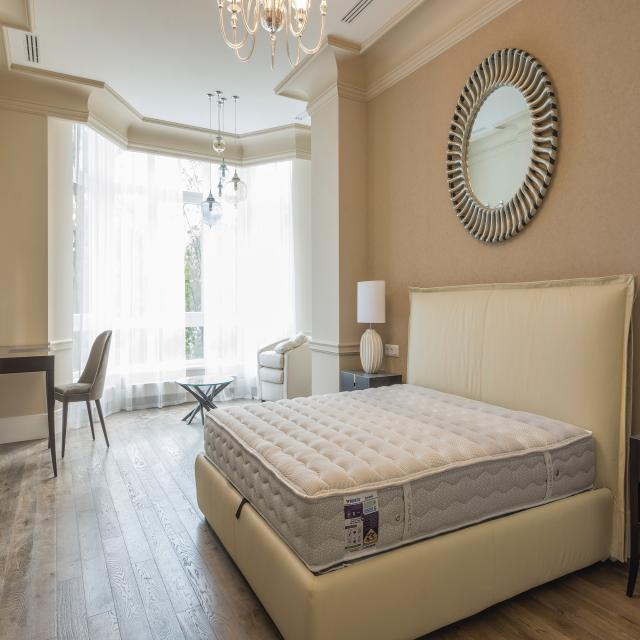floor: (0, 401, 286, 640), (415, 559, 640, 640), (213, 398, 261, 409)
wall: (367, 0, 640, 437), (276, 46, 340, 396), (0, 109, 48, 347), (339, 97, 370, 392), (48, 117, 73, 344), (0, 371, 47, 419), (47, 339, 74, 387), (0, 344, 48, 358)
